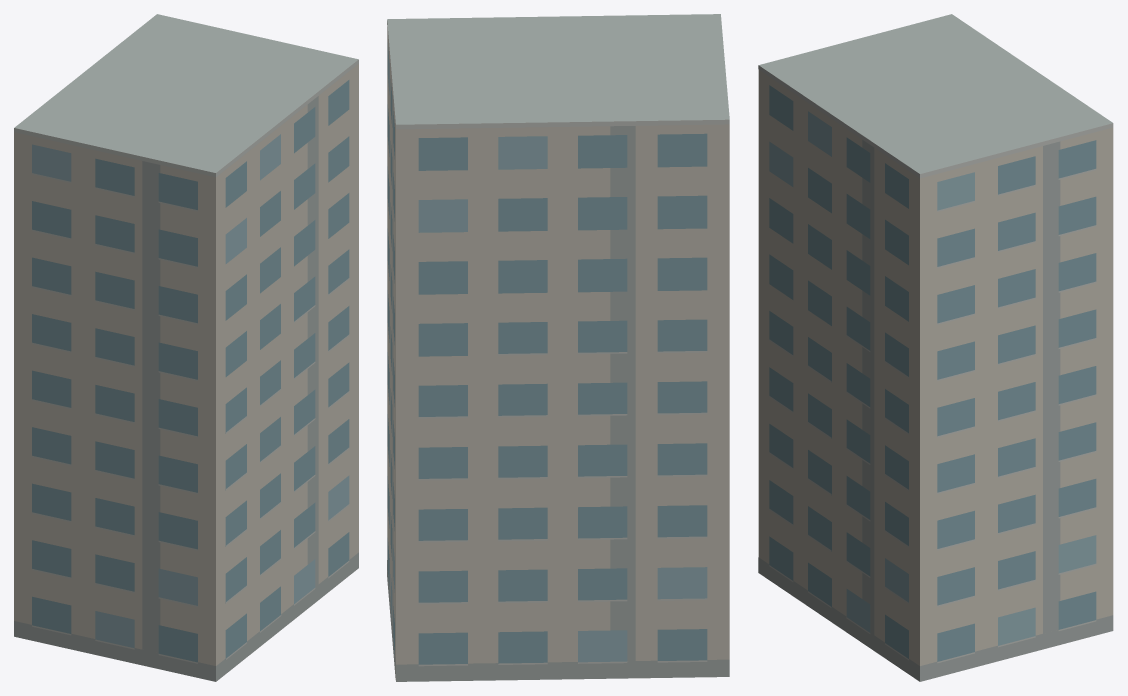
File: residential-62420af5-419b-4aa8-8450-7dc43835fb22.glb
The picture shows the model from 3 angles, left to right: view 1: azimuth 30°, elevation 25°; view 2: azimuth 150°, elevation 25°; view 3: azimuth 270°, elevation 25°; orthographic projection. The views are drawn at different scales.
Visible parts, largest first — view 1: residential-62420af5-419b-4aa8-8450-7dc43835fb22.tmp; view 2: residential-62420af5-419b-4aa8-8450-7dc43835fb22.tmp; view 3: residential-62420af5-419b-4aa8-8450-7dc43835fb22.tmp.
Boxes of the visible parts, x1=… form: residential-62420af5-419b-4aa8-8450-7dc43835fb22.tmp: x1=14, y1=14, x2=358, y2=681; residential-62420af5-419b-4aa8-8450-7dc43835fb22.tmp: x1=387, y1=14, x2=729, y2=681; residential-62420af5-419b-4aa8-8450-7dc43835fb22.tmp: x1=758, y1=14, x2=1113, y2=681.
Size of the model in its own units: 19.62 by 29 by 18.38.
